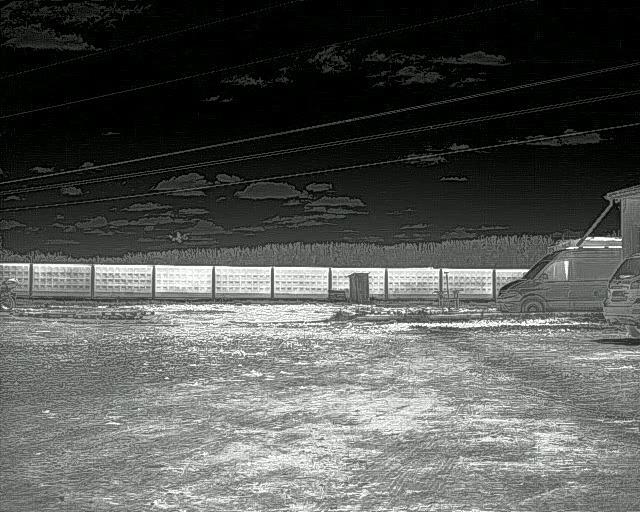drone-thermal: (165, 230, 193, 245)
